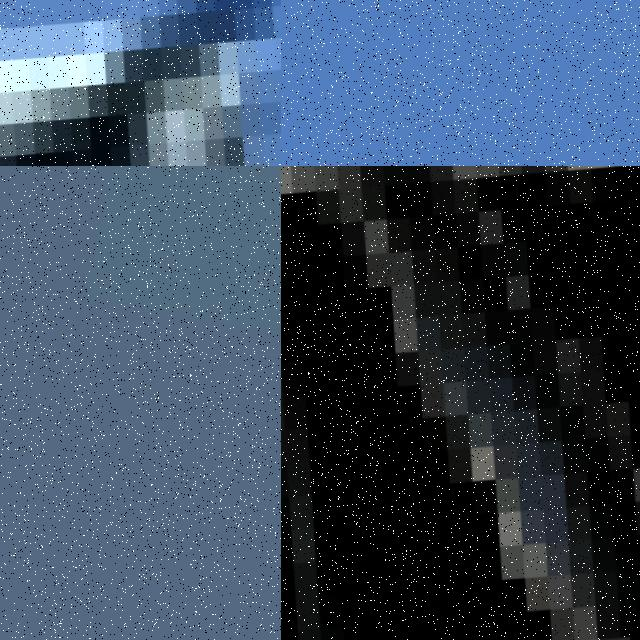0: (0, 0, 281, 166)
drone: (281, 166, 640, 640)
